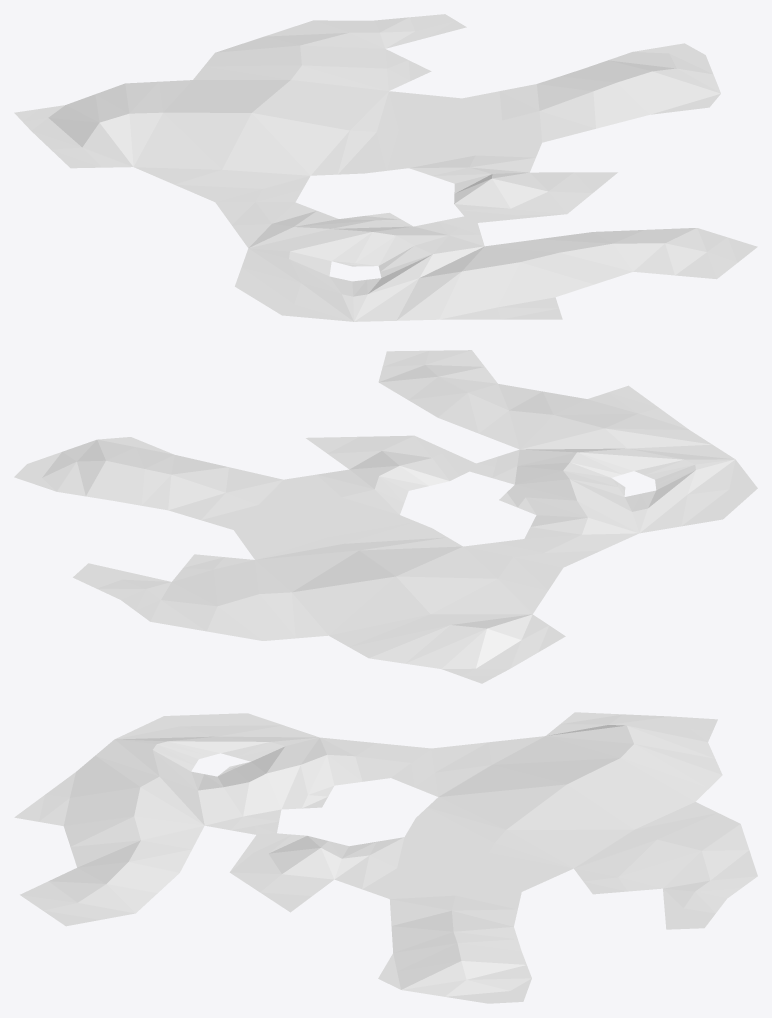
File: DWE_Snow_Ground_01A.fbx
The picture shows the model from 3 angles, top to bottom: view 1: azimuth 30°, elevation 25°; view 2: azimuth 150°, elevation 25°; view 3: azimuth 270°, elevation 25°; orthographic projection. The views are drawn at different scales.
Parts seen in each view (by area): view 1: DWE_Snow_Ground_01A; view 2: DWE_Snow_Ground_01A; view 3: DWE_Snow_Ground_01A.
Boxes of the visible parts, <box> form: DWE_Snow_Ground_01A: <box>14,14,757,321</box>; DWE_Snow_Ground_01A: <box>14,350,757,683</box>; DWE_Snow_Ground_01A: <box>14,712,757,1003</box>.
Size of the model in its own units: 974 by 23.47 by 1050.
